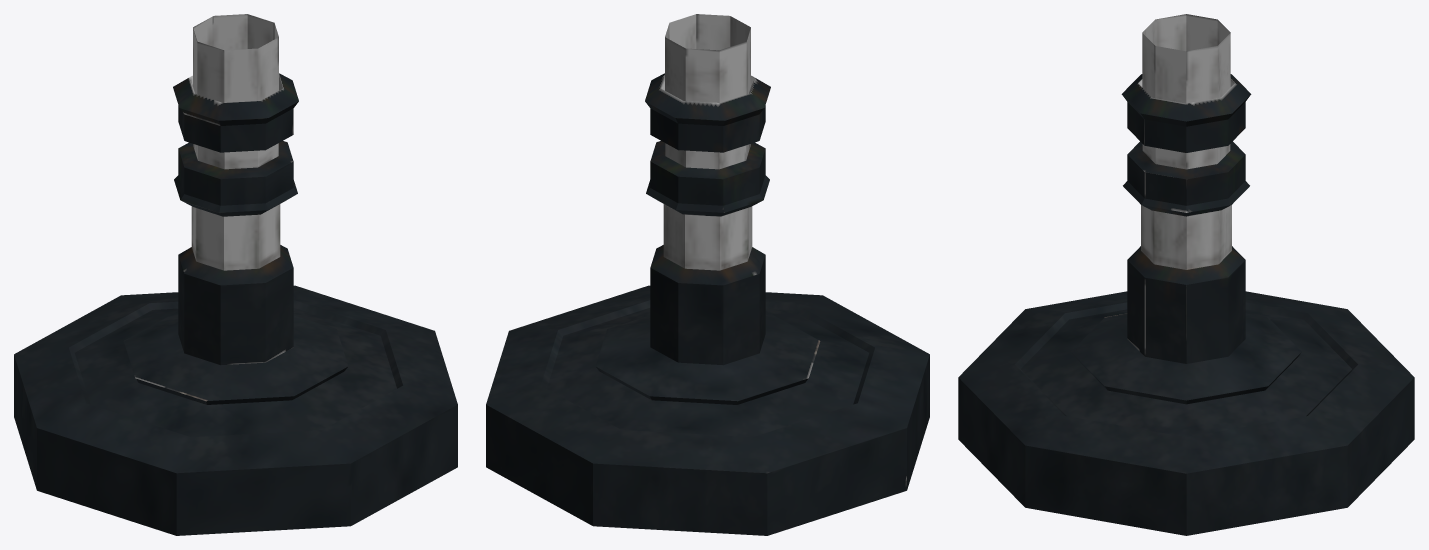
Rendered from Turret.fbx.
The picture shows the model from 3 angles, left to right: view 1: azimuth 30°, elevation 25°; view 2: azimuth 150°, elevation 25°; view 3: azimuth 270°, elevation 25°; orthographic projection.
Parts seen in each view (by area): view 1: turret_base, turret_rotate_part; view 2: turret_base, turret_rotate_part; view 3: turret_base, turret_rotate_part.
Part boxes in pixels (x1,y1,x2,y2): turret_base: (14, 285, 457, 535); turret_rotate_part: (173, 14, 298, 365); turret_base: (486, 285, 929, 535); turret_rotate_part: (645, 14, 770, 365); turret_base: (958, 291, 1414, 535); turret_rotate_part: (1121, 14, 1251, 363).
Size of the model in its own units: 62.82 by 61.83 by 62.82.
